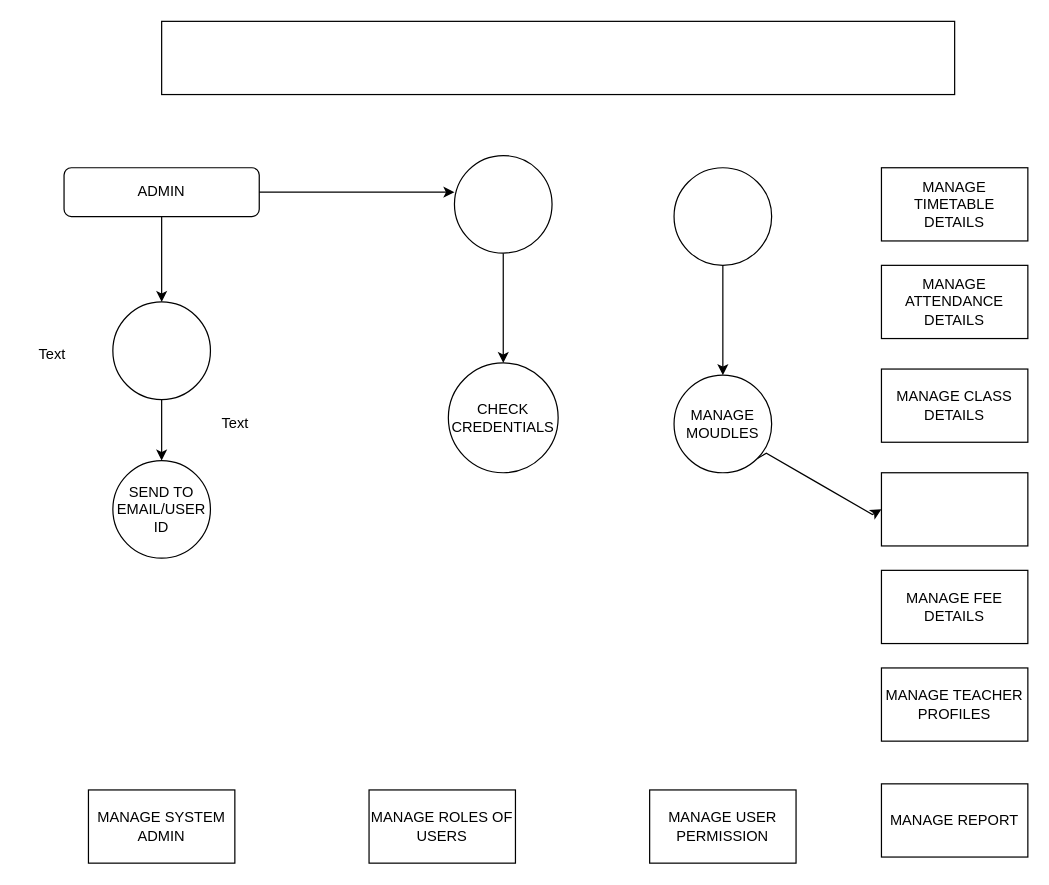
This 1049x885 diagram has some shape labels left out. The shapes that lost their labels are listed below. From the top down, each one's centre as x and y in pixels, then its label:
At (557,57): "STUDENT INFORMATION SYSTEM".
At (502,203): "LOGIN to system".
At (722,216): "CHECK roles of access".
At (161,350): "FORGOT PASSWORD".
At (954,509): "MANAGE STUDENTS DETAILS".
